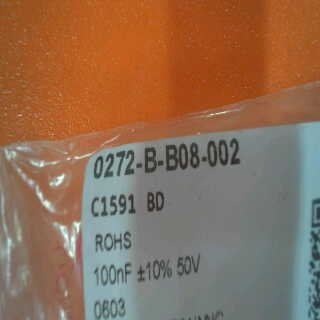100nF: (89, 258, 132, 293)
